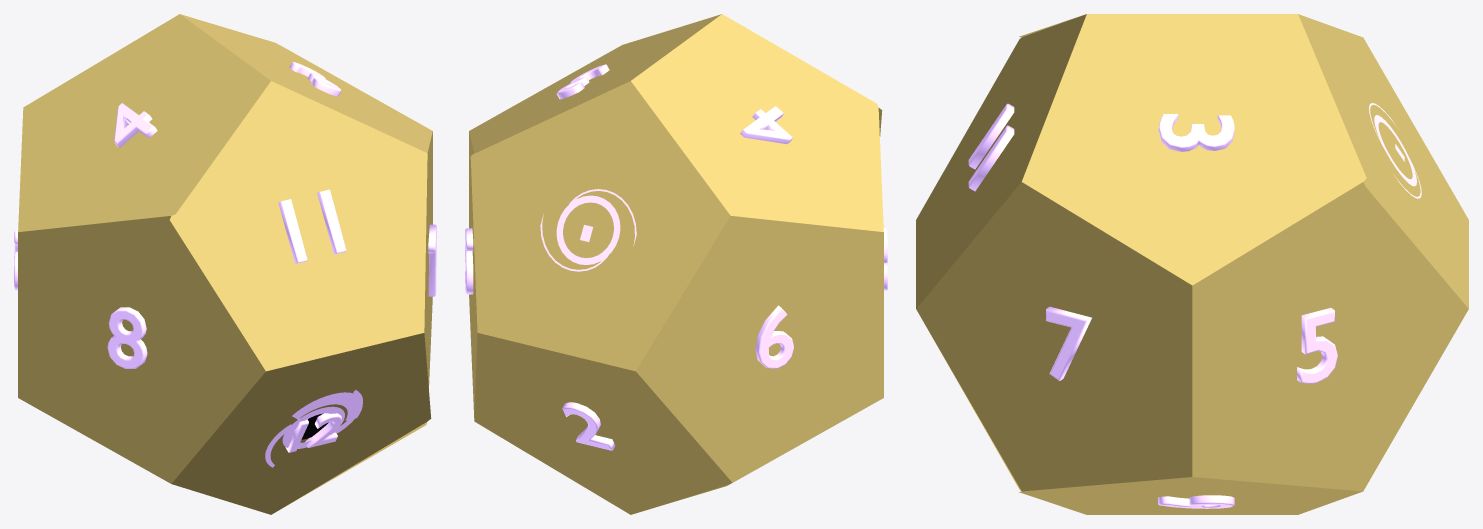
File: d12_black_hole_gold.glb
3 renders of one model, left to right at view 1: azimuth 30°, elevation 25°; view 2: azimuth 150°, elevation 25°; view 3: azimuth 270°, elevation 25°, orthographic. The views are drawn at different scales.
Parts seen in each view (by area): view 1: D12_BlackHole_Gold; view 2: D12_BlackHole_Gold; view 3: D12_BlackHole_Gold.
Part boxes in pixels (bbox=[...]): D12_BlackHole_Gold: bbox=[14, 14, 436, 514]; D12_BlackHole_Gold: bbox=[465, 14, 887, 514]; D12_BlackHole_Gold: bbox=[916, 14, 1468, 514].
Bounding box in the file's own units: 4.48 × 4.48 × 4.48.
